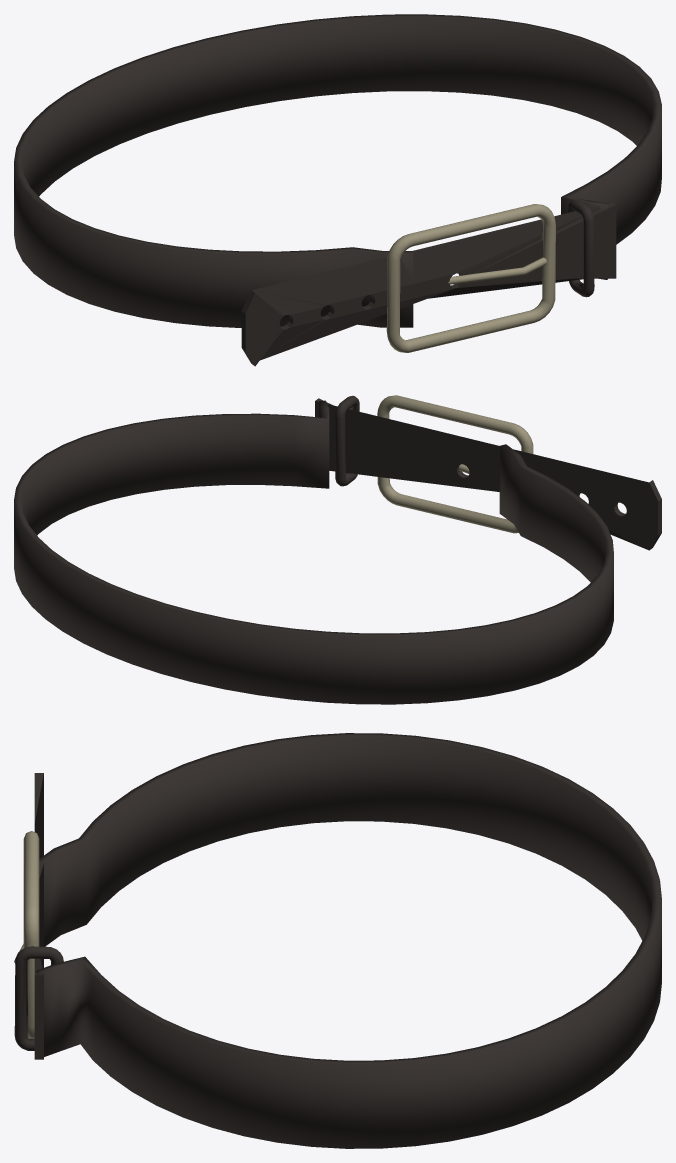
File: A-NEW-20261027-WAIST-BELT-001_LOD1_R4.fbx
The picture shows the model from 3 angles, top to bottom: view 1: azimuth 30°, elevation 25°; view 2: azimuth 150°, elevation 25°; view 3: azimuth 270°, elevation 25°; orthographic projection. The views are drawn at different scales.
Visible parts, largest first — view 1: continuous main waist strap, free end adjustment tongue, open rounded buckle frame, complete strap keeper, buckle prong; view 2: continuous main waist strap, free end adjustment tongue, open rounded buckle frame, complete strap keeper; view 3: continuous main waist strap, open rounded buckle frame, free end adjustment tongue, complete strap keeper.
Part boxes in pixels (left/top/right/bottom): continuous main waist strap: left=14, top=14, right=661, bottom=327; free end adjustment tongue: left=241, top=202, right=616, bottom=366; open rounded buckle frame: left=386, top=204, right=555, bottom=352; complete strap keeper: left=568, top=199, right=594, bottom=297; buckle prong: left=448, top=257, right=546, bottom=284; continuous main waist strap: left=14, top=400, right=613, bottom=704; free end adjustment tongue: left=315, top=398, right=661, bottom=550; open rounded buckle frame: left=377, top=395, right=533, bottom=533; complete strap keeper: left=335, top=395, right=359, bottom=486; continuous main waist strap: left=36, top=733, right=661, bottom=1148; open rounded buckle frame: left=23, top=831, right=39, bottom=1038; free end adjustment tongue: left=34, top=773, right=43, bottom=1059; complete strap keeper: left=14, top=946, right=63, bottom=1050.
Size of the model in its own units: 30.32 by 5.8 by 25.05.
